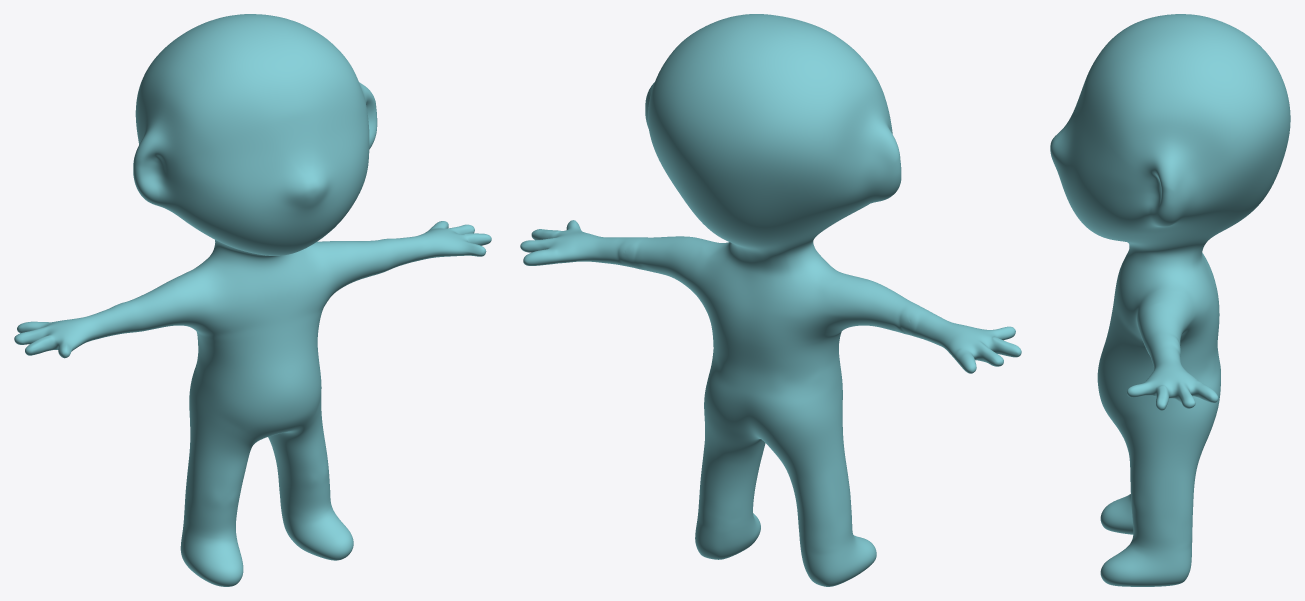
Rendered from PersonajeBase 1.fbx.
3 views of the same model, side by side, from view 1: azimuth 30°, elevation 25°; view 2: azimuth 150°, elevation 25°; view 3: azimuth 270°, elevation 25° (orthographic). The views are drawn at different scales.
Visible parts, largest first — view 1: PeronajeBaseRetopo; view 2: PeronajeBaseRetopo; view 3: PeronajeBaseRetopo.
Part boxes in pixels (box(x1,y1,x2,y2)): PeronajeBaseRetopo: box(14, 14, 491, 586); PeronajeBaseRetopo: box(520, 14, 1021, 586); PeronajeBaseRetopo: box(1050, 14, 1290, 586).
Bounding box in the file's own units: 2.12 × 2.27 × 0.935.
